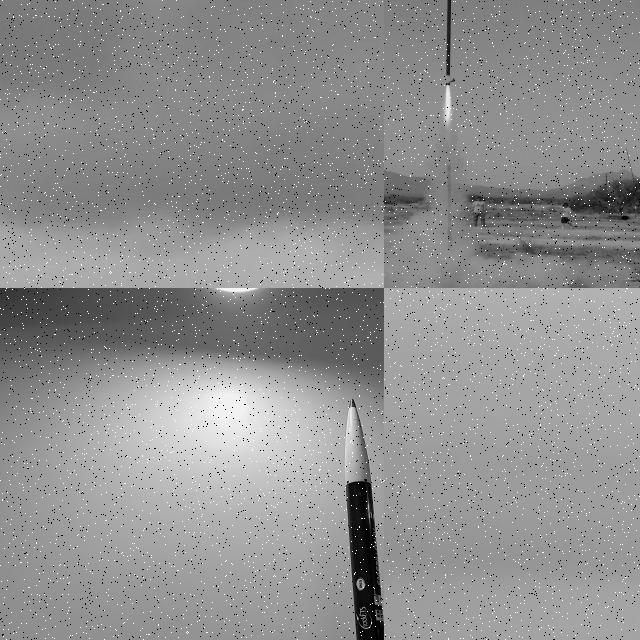Rocket: (344, 398, 384, 640), (436, 0, 456, 86), (633, 177, 640, 251)
